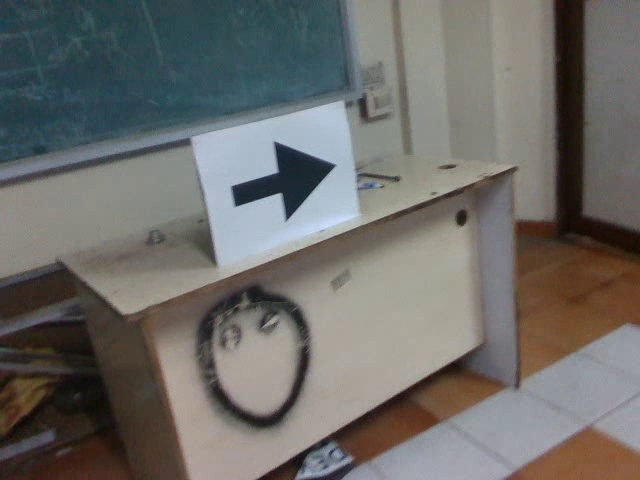Right: (227, 138, 342, 222)
